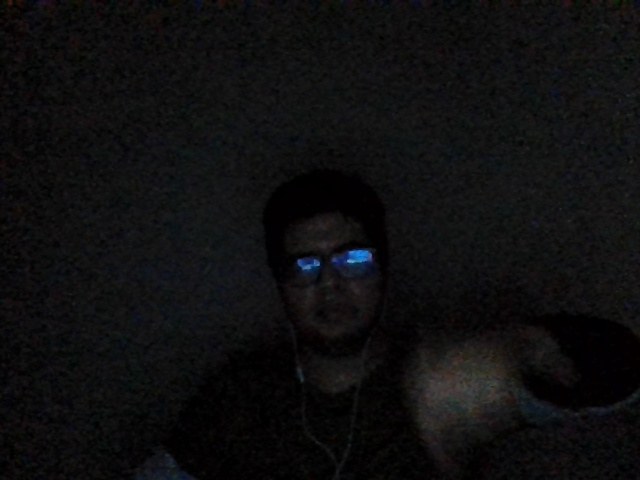Yes: (399, 312, 530, 466)
